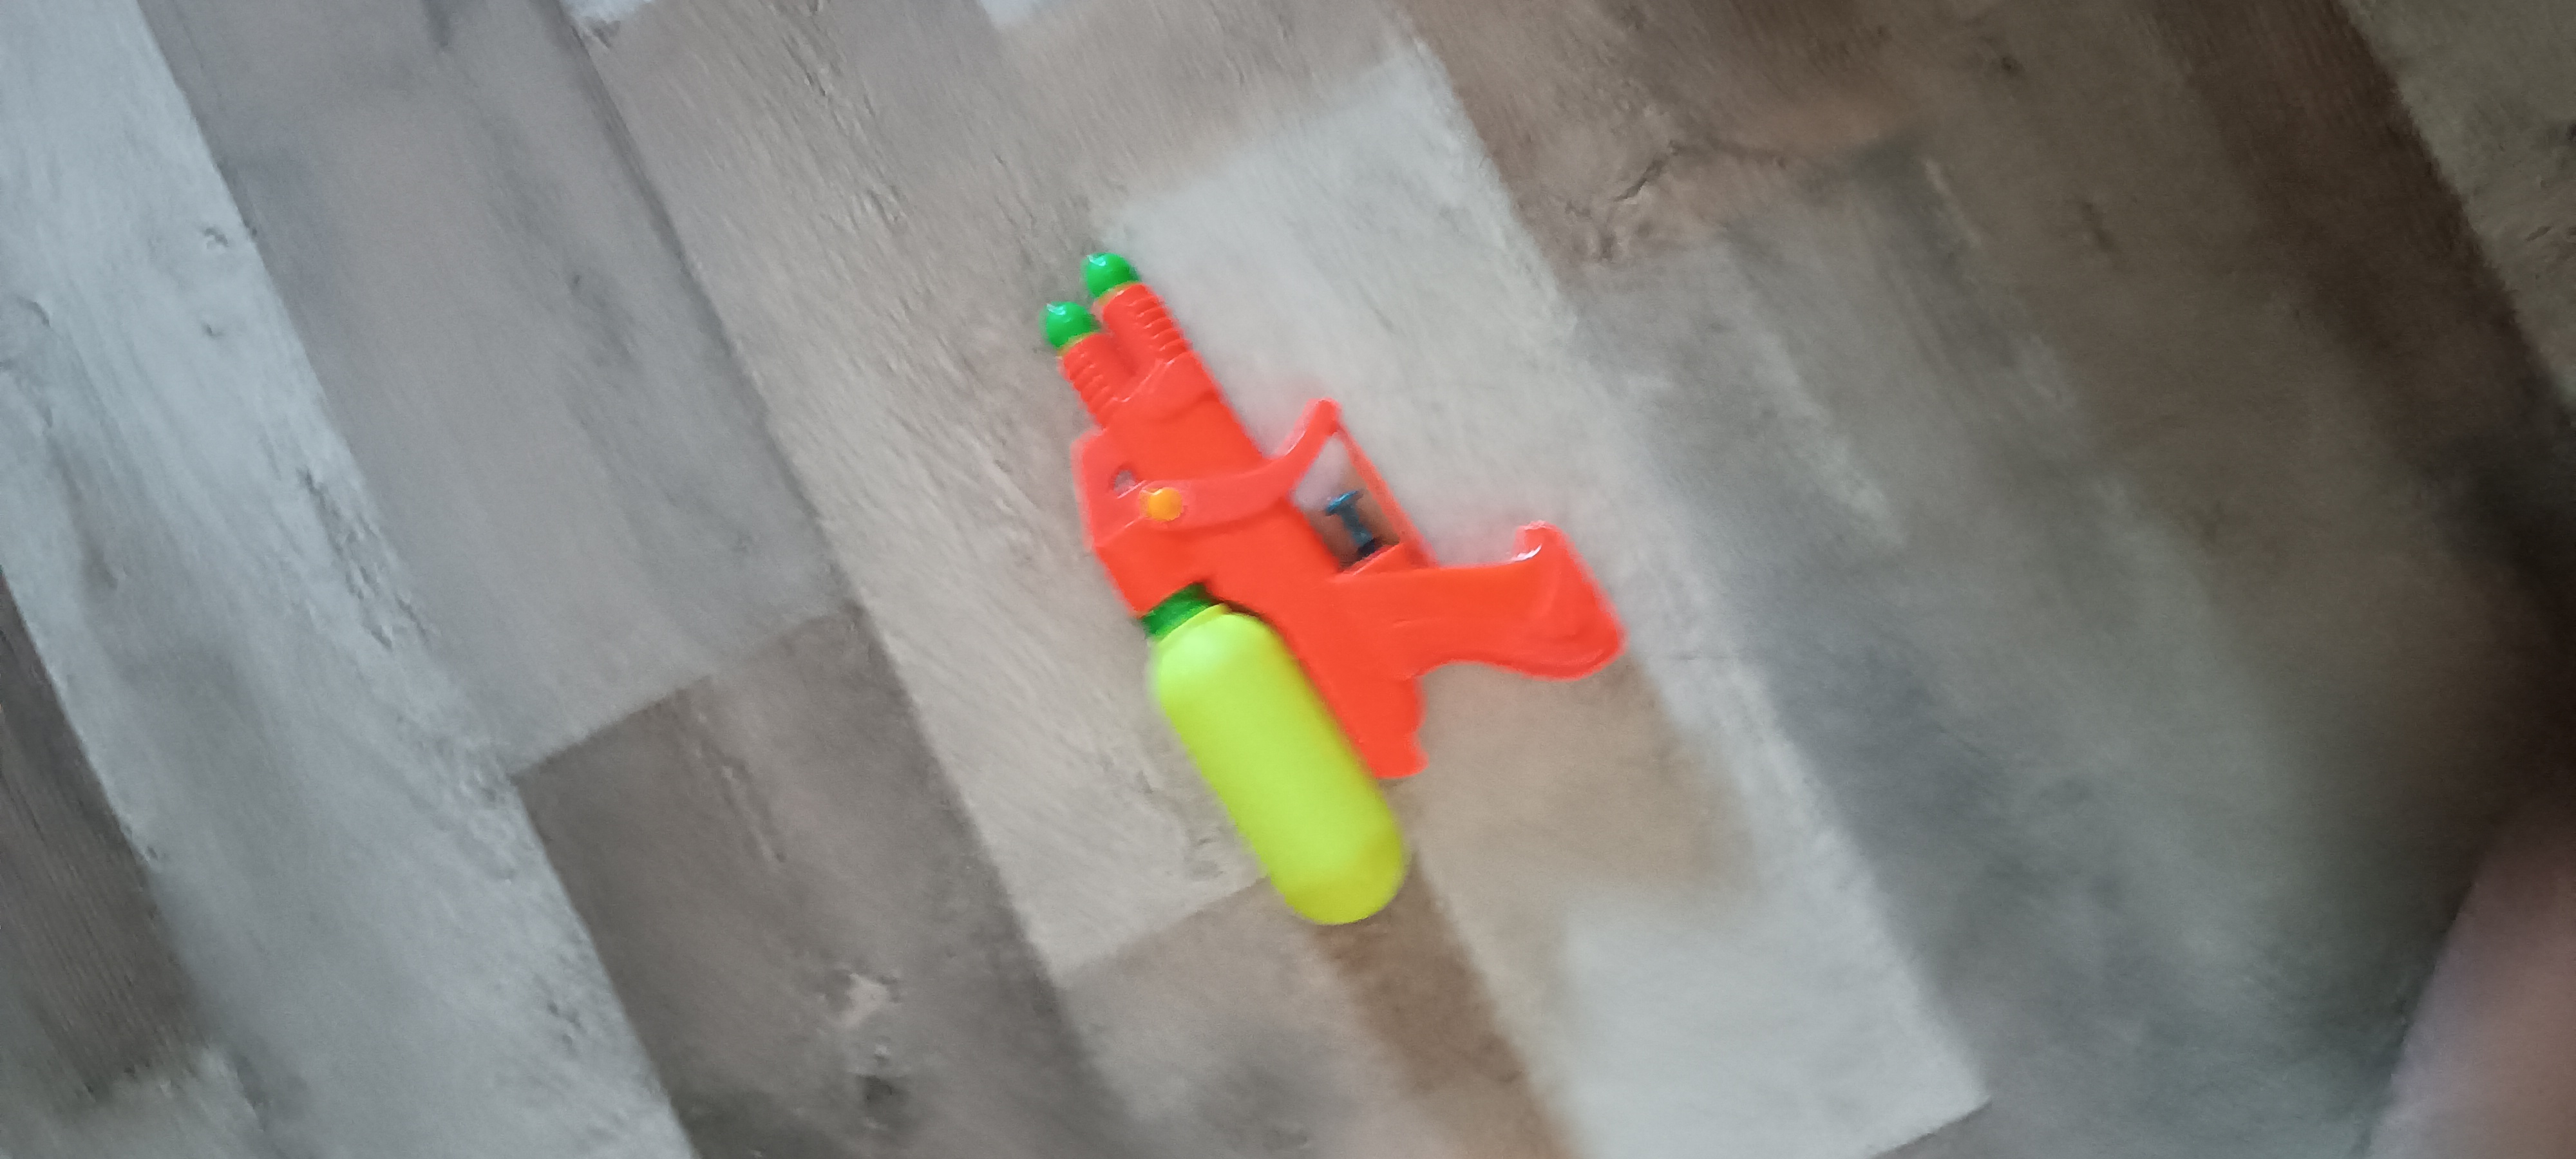Water Gun: (1040, 251, 1626, 926)
